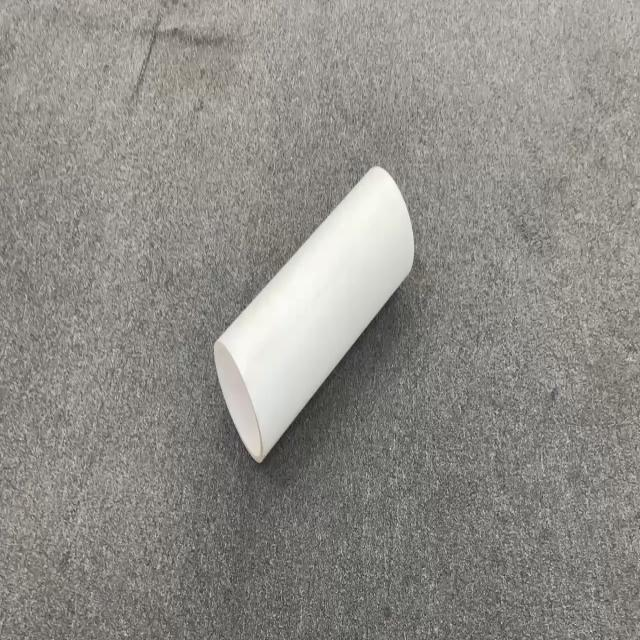coral: (212, 164, 414, 464)
